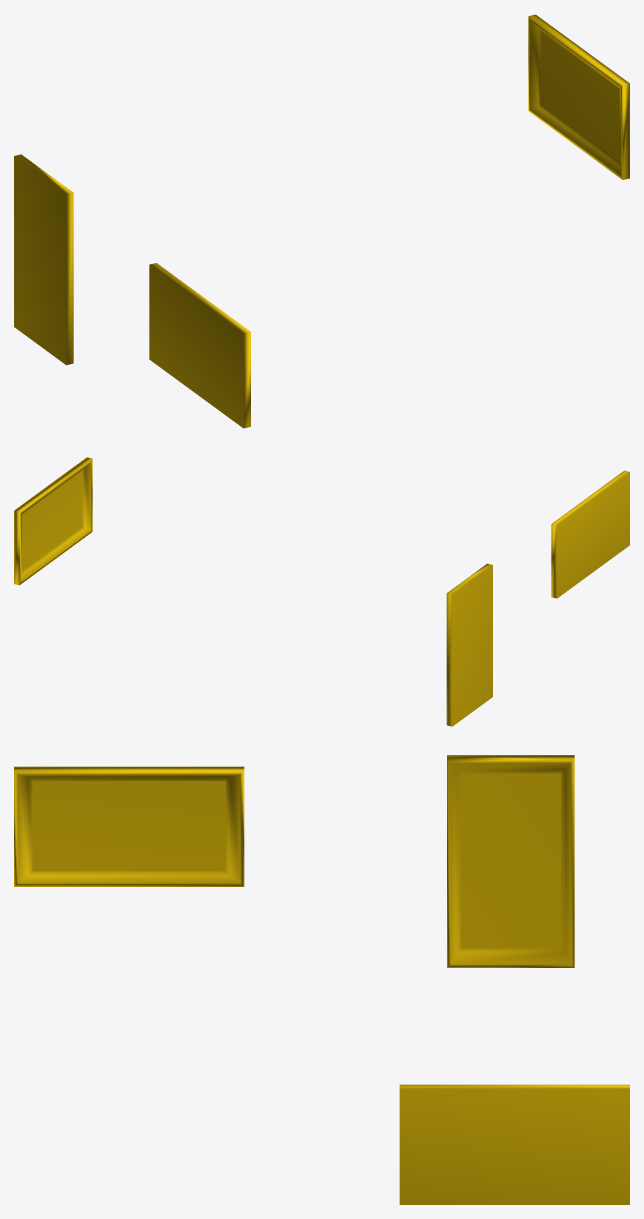
Rendered from CaptainQuarters_Portraits.fbx.
3 renders of one model, top to bottom at view 1: azimuth 30°, elevation 25°; view 2: azimuth 150°, elevation 25°; view 3: azimuth 270°, elevation 25°, orthographic. The views are drawn at different scales.
Parts seen in each view (by area): view 1: Portrait1, Portrait3, Portrait2; view 2: Portrait1, Portrait2, Portrait3; view 3: Portrait2, Portrait3, Portrait1.
Boxes of the visible parts, box(x1,y1,x2,y2) form: Portrait1: box(14, 154, 73, 365); Portrait3: box(528, 14, 629, 179); Portrait2: box(149, 263, 250, 428); Portrait1: box(446, 563, 492, 726); Portrait2: box(551, 470, 629, 598); Portrait3: box(14, 457, 92, 585); Portrait2: box(14, 766, 244, 886); Portrait3: box(399, 1084, 629, 1204); Portrait1: box(447, 755, 574, 967).
Bounding box in the file's own units: 6 × 1.8 × 4.82.
